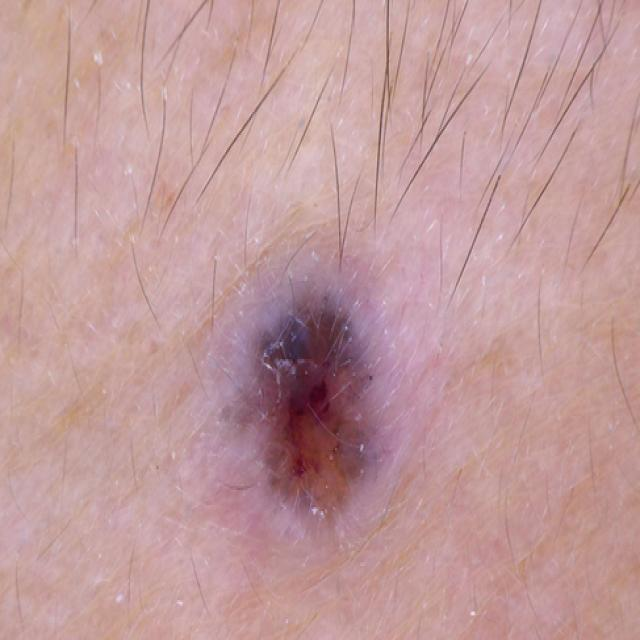Carcinoma: (179, 271, 466, 582)
